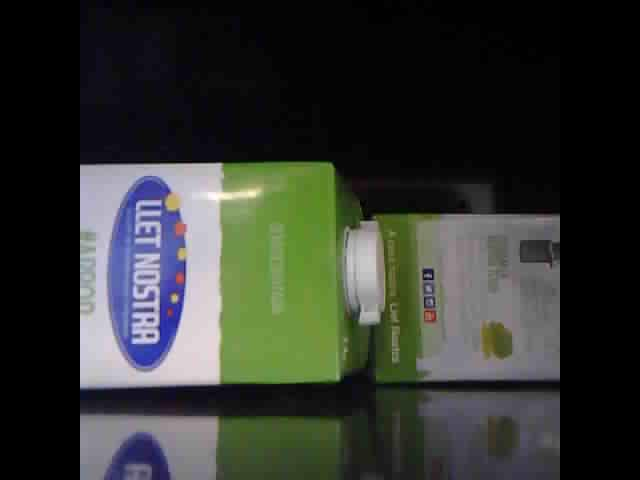leche: (80, 161, 385, 386), (371, 213, 561, 384)
